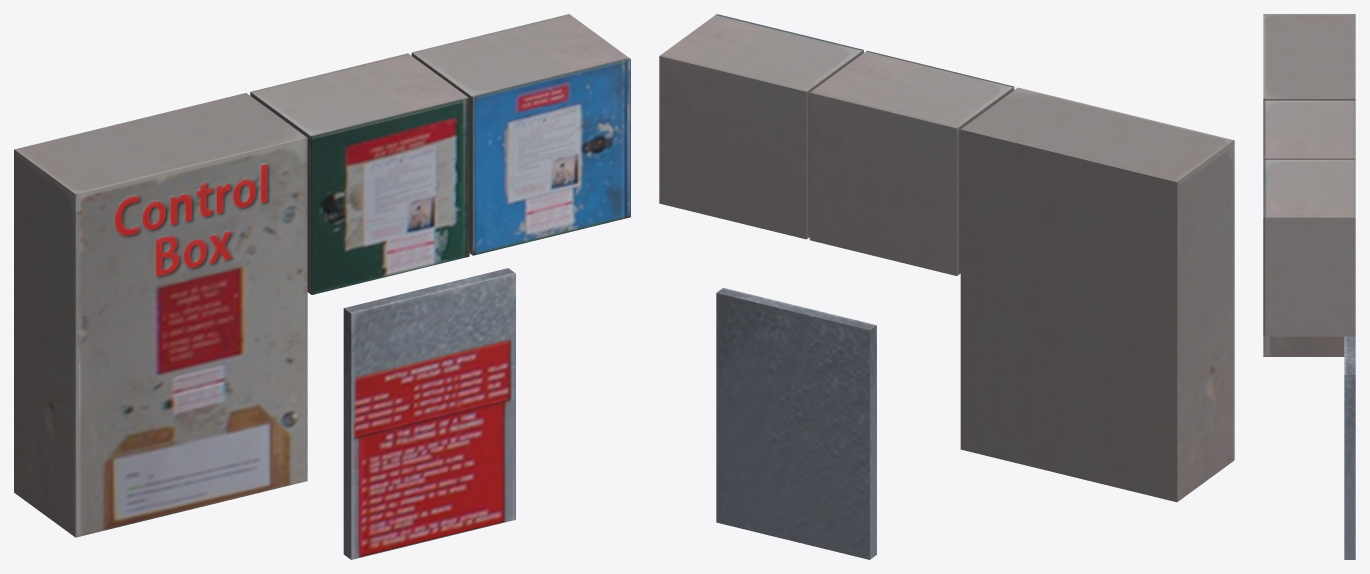
Rendered from Machine_box02.FBX.
3 renders of one model, left to right at view 1: azimuth 30°, elevation 25°; view 2: azimuth 150°, elevation 25°; view 3: azimuth 270°, elevation 25°, orthographic. The views are drawn at different scales.
Parts seen in each view (by area): view 1: Machine_box02; view 2: Machine_box02; view 3: Machine_box02.
Boxes of the visible parts, box(x1,y1,x2,y2) form: Machine_box02: box(14, 14, 630, 559); Machine_box02: box(659, 14, 1234, 559); Machine_box02: box(1263, 14, 1355, 559).
Bounding box in the file's own units: 1.26 × 1.05 × 0.2424.
